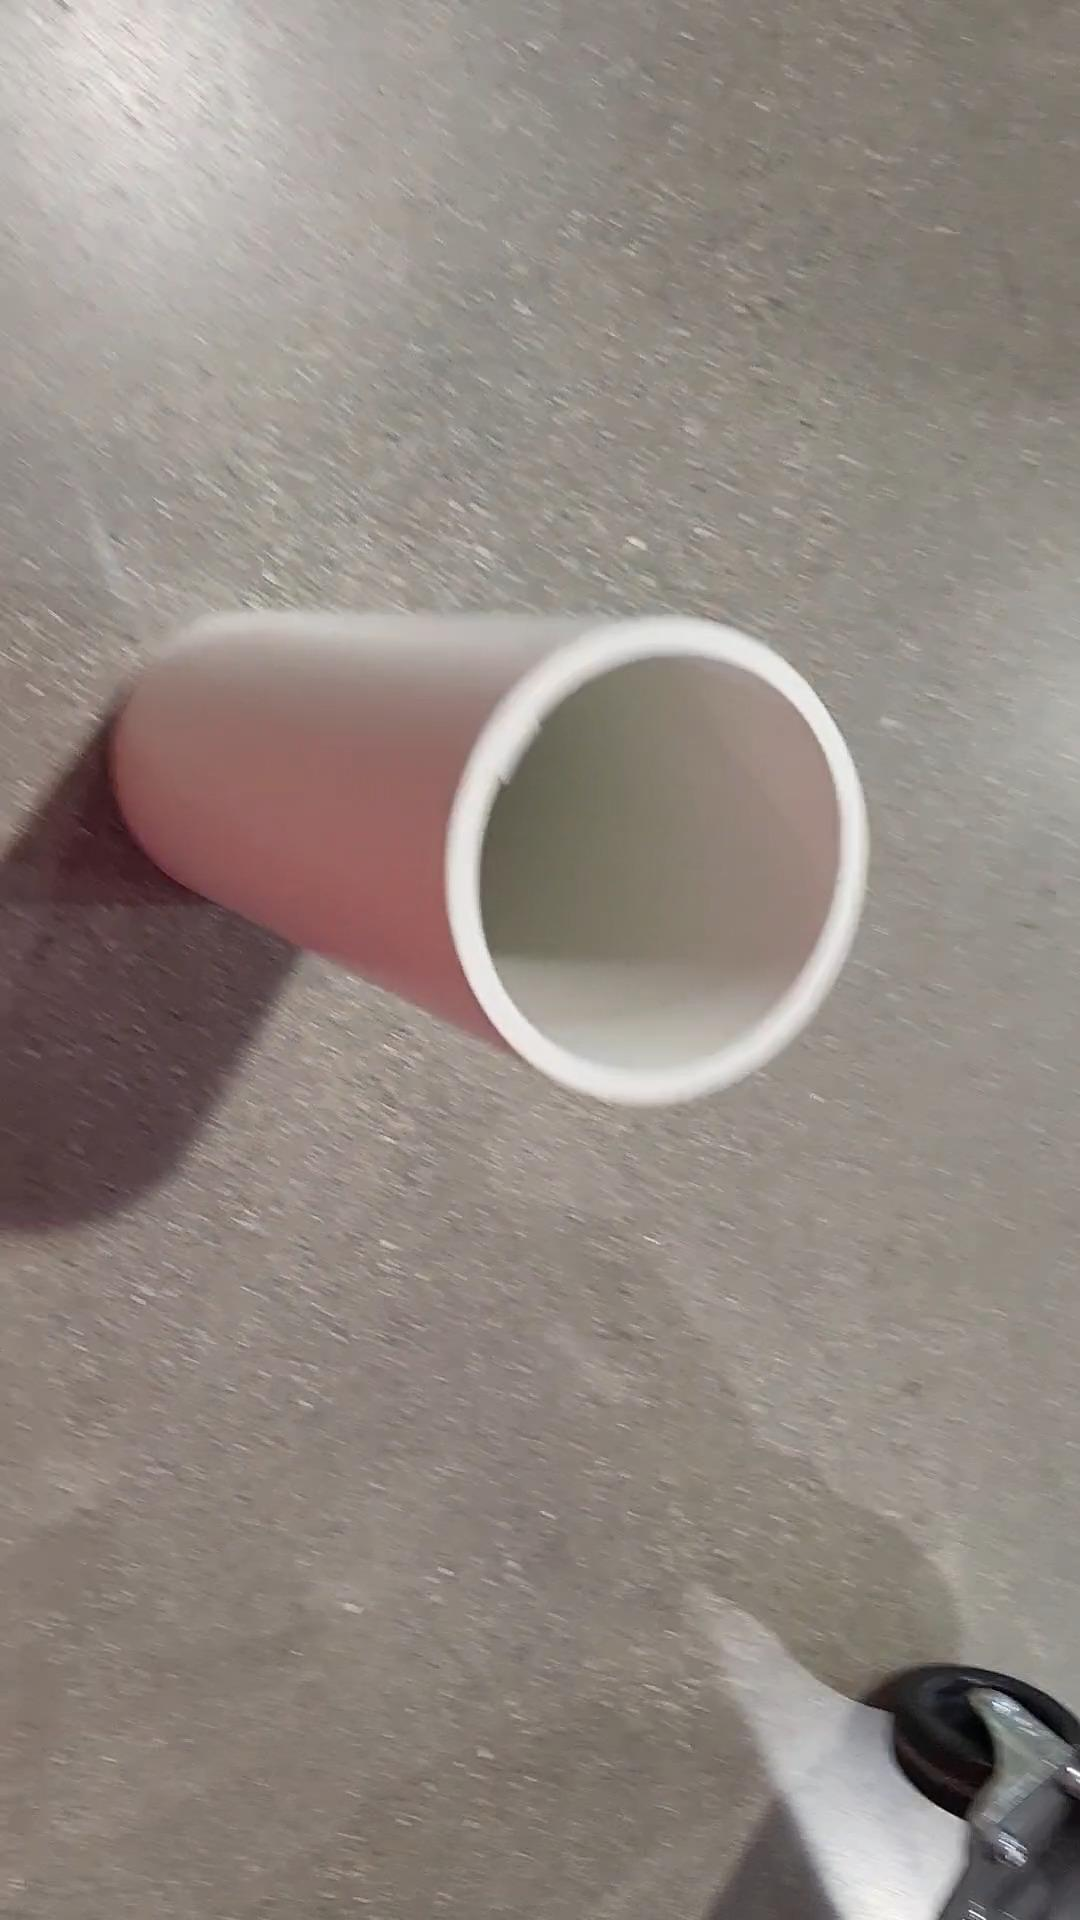coral: (107, 593, 886, 1113)
